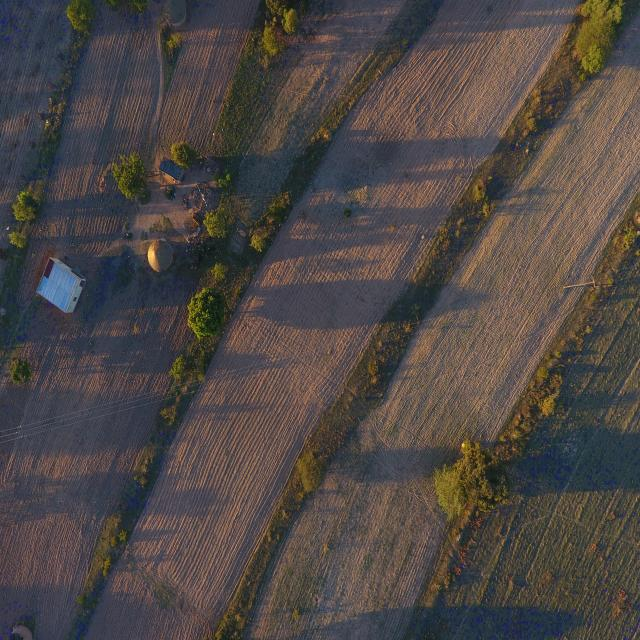boundaries: (224, 78, 571, 609)
